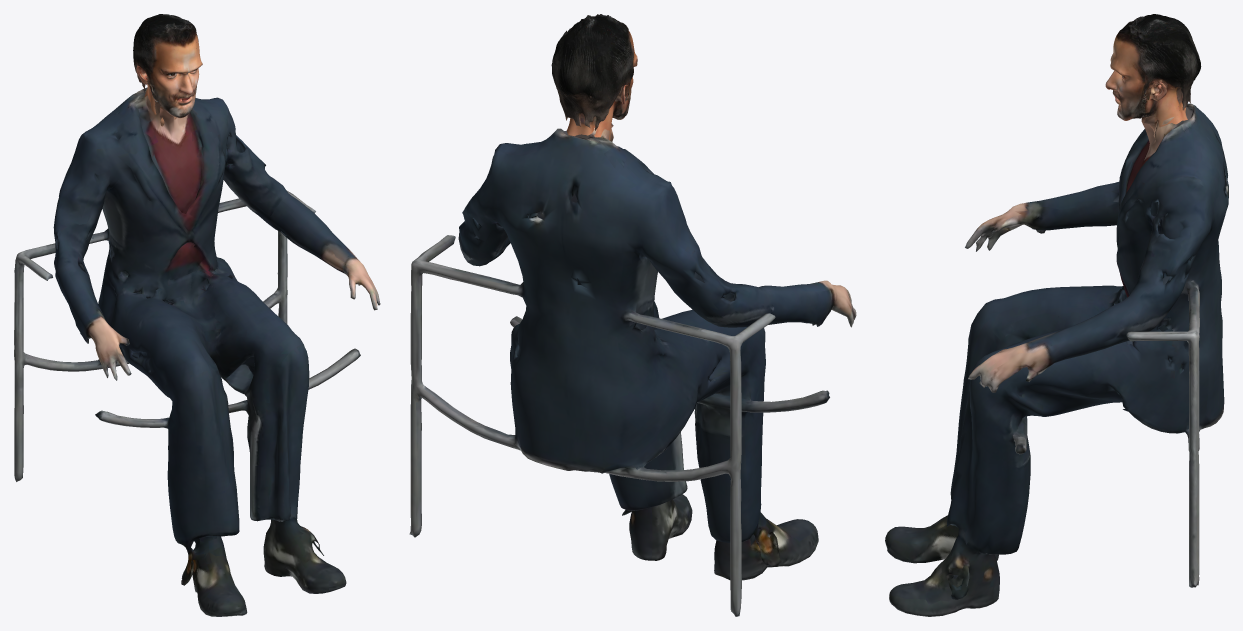
Rendered from marc_jacobs.glb.
The picture shows the model from 3 angles, left to right: view 1: azimuth 30°, elevation 25°; view 2: azimuth 150°, elevation 25°; view 3: azimuth 270°, elevation 25°; orthographic projection. The views are drawn at different scales.
Visible parts, largest first — view 1: Mesh_0.003, Mesh_0.002; view 2: Mesh_0.003, Mesh_0.002; view 3: Mesh_0.003, Mesh_0.002.
Part boxes in pixels (x1,y1,x2,y2): Mesh_0.003: [14, 87, 380, 616]; Mesh_0.002: [133, 14, 202, 126]; Mesh_0.003: [409, 123, 856, 616]; Mesh_0.002: [551, 14, 637, 140]; Mesh_0.003: [885, 103, 1228, 616]; Mesh_0.002: [1105, 14, 1201, 132].
Bounding box in the file's own units: 2.67 × 4.67 × 2.57.
2 materials, 2 textured.
